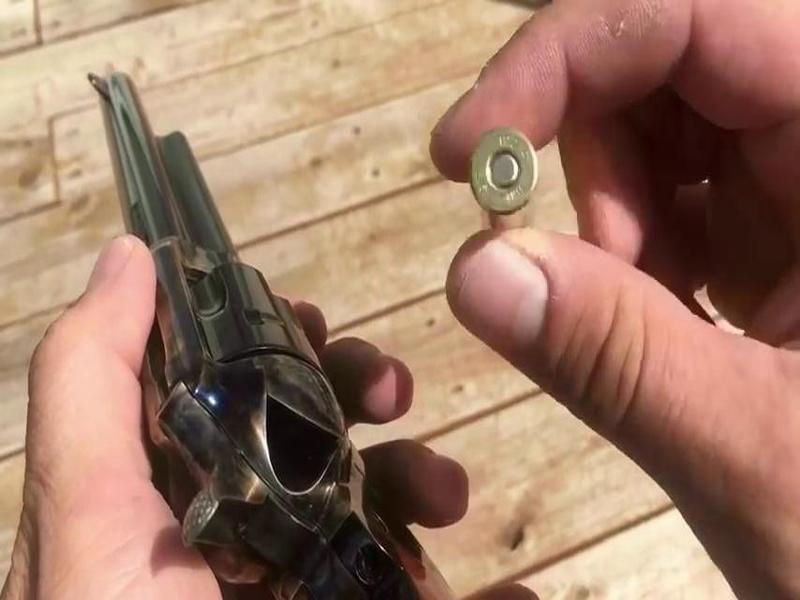Revolver: (55, 57, 387, 600)
